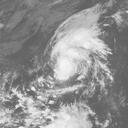cyclone: (49, 31, 94, 80)
